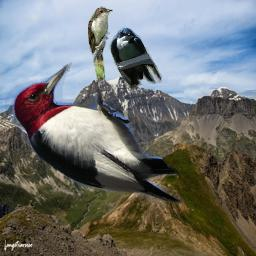Cuckoo: (88, 5, 113, 79)
Swallow: (109, 26, 163, 91)
Woodpecker: (4, 62, 193, 205)
